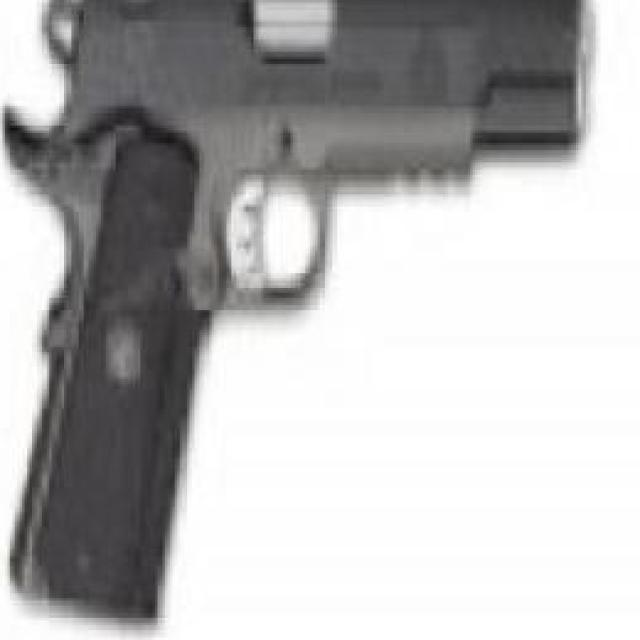pistol: (0, 0, 588, 625)
